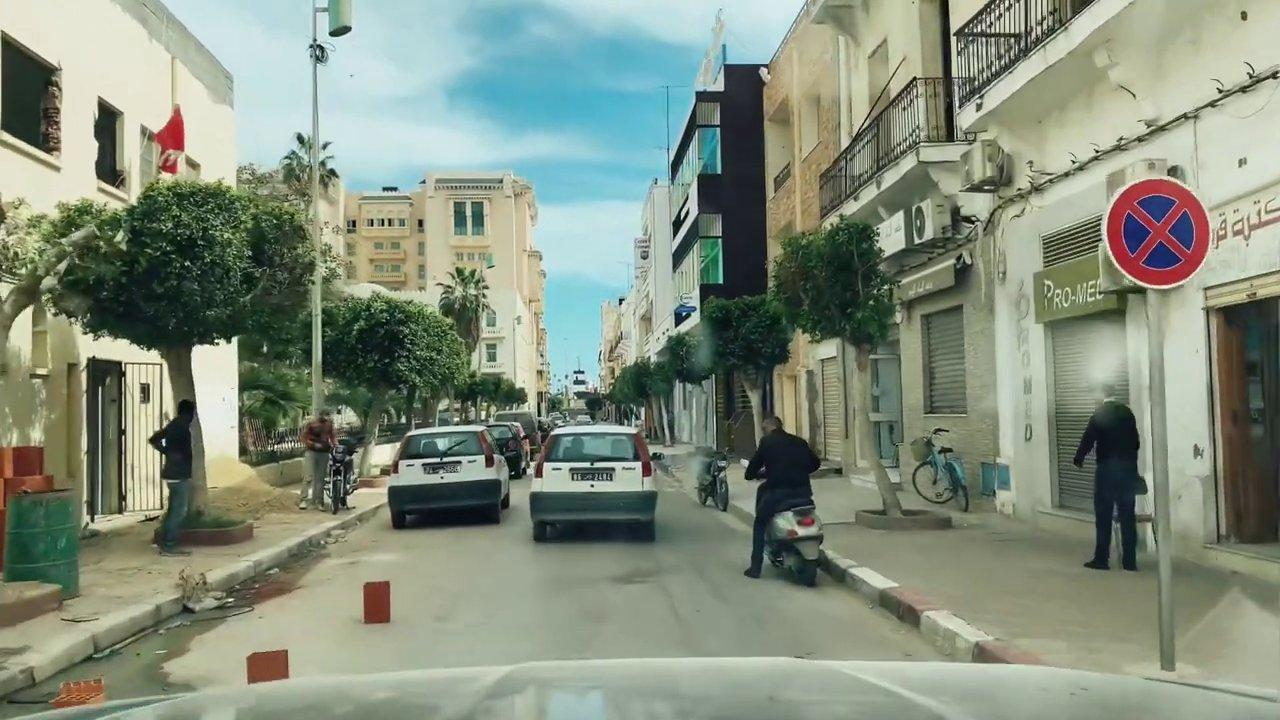no stopping: (1094, 178, 1213, 290)
